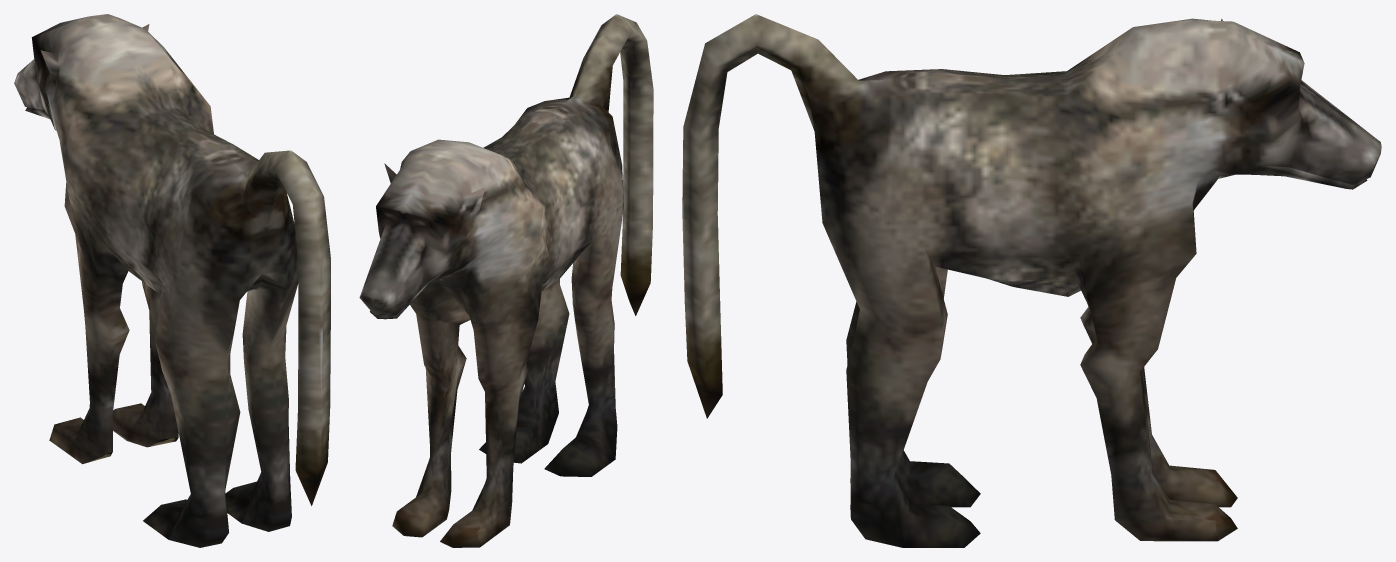
File: Baboon.fbx
The picture shows the model from 3 angles, left to right: view 1: azimuth 30°, elevation 25°; view 2: azimuth 150°, elevation 25°; view 3: azimuth 270°, elevation 25°; orthographic projection. The views are drawn at different scales.
Parts seen in each view (by area): view 1: baboon; view 2: baboon; view 3: baboon.
Boxes of the visible parts, box(x1,y1,x2,y2) form: baboon: box(14, 14, 330, 547); baboon: box(359, 14, 653, 547); baboon: box(682, 14, 1381, 547).
Bounding box in the file's own units: 39.99 × 112 × 142.
2 materials, 2 textured.
